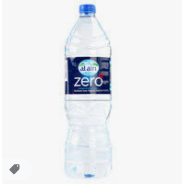Bottle: (63, 3, 115, 180)
